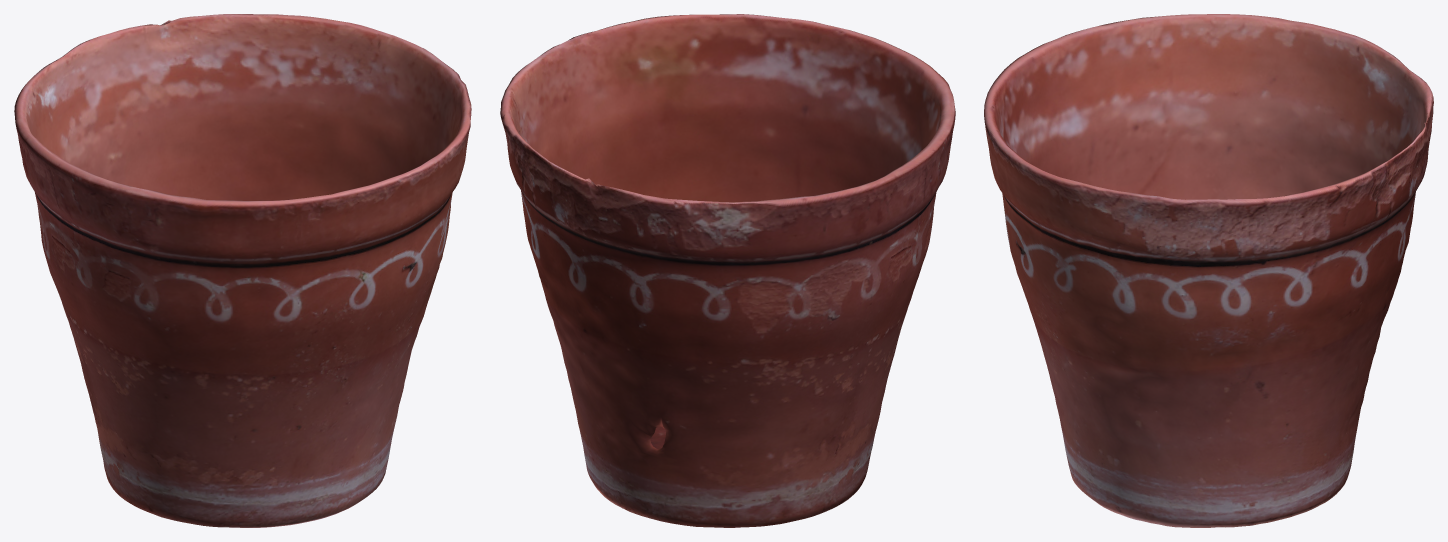
Rendered from flower_pot.glb.
The picture shows the model from 3 angles, left to right: view 1: azimuth 30°, elevation 25°; view 2: azimuth 150°, elevation 25°; view 3: azimuth 270°, elevation 25°; orthographic projection.
Visible parts, largest first — view 1: Object_2; view 2: Object_2; view 3: Object_2.
Part boxes in pixels (x1,y1,x2,y2): Object_2: (14, 14, 471, 527); Object_2: (500, 14, 955, 527); Object_2: (984, 14, 1433, 527).
Bounding box in the file's own units: 0.1736 × 0.1552 × 0.1722.
1 material, 1 textured.
